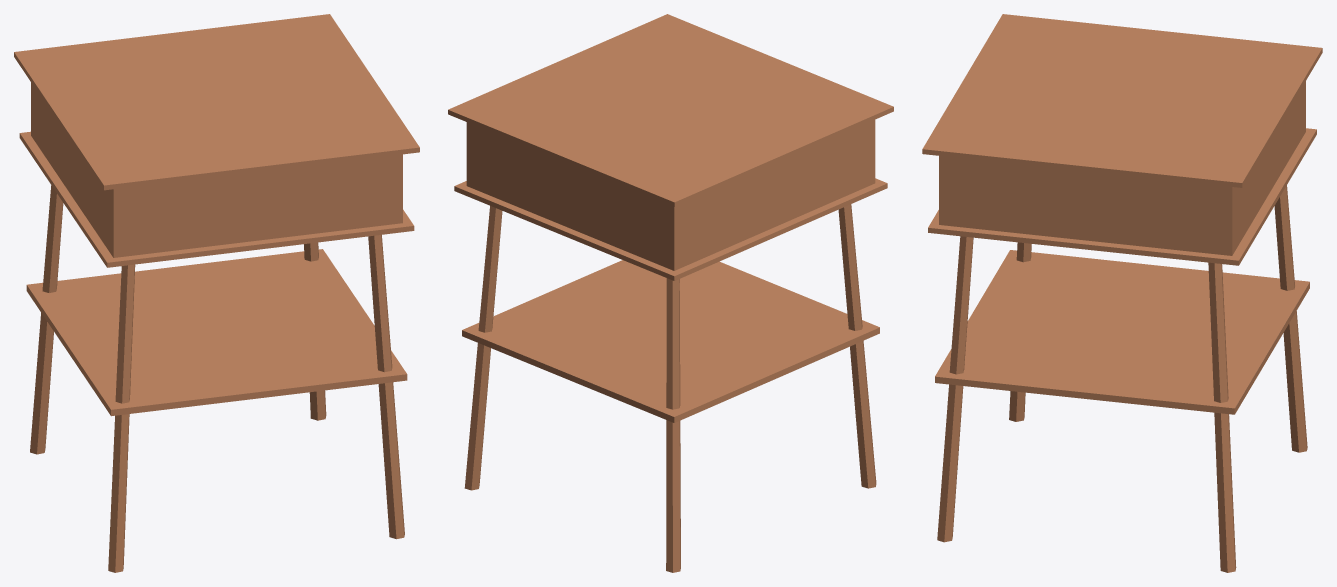
The model's file is table_single002.obj.
3 views of the same model, side by side, from view 1: azimuth 30°, elevation 25°; view 2: azimuth 150°, elevation 25°; view 3: azimuth 270°, elevation 25° (orthographic). The views are drawn at different scales.
Visible parts, largest first — view 1: table_single.002_Cube.001; view 2: table_single.002_Cube.001; view 3: table_single.002_Cube.001.
Boxes of the visible parts, <box> form: table_single.002_Cube.001: <box>14,14,419,572</box>; table_single.002_Cube.001: <box>448,14,893,572</box>; table_single.002_Cube.001: <box>922,14,1322,572</box>.
Bounding box in the file's own units: 1.87 × 2.04 × 1.87.
